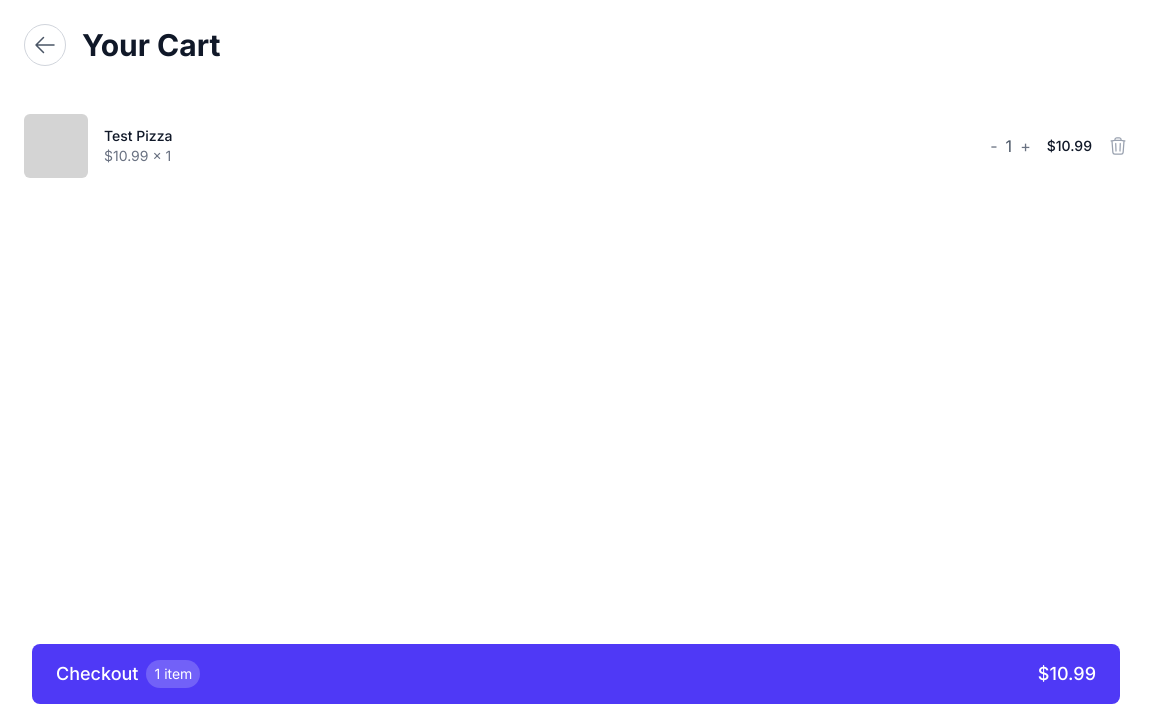
Test case: CartPage Component (Unit) › removes item when quantity becomes 0
Click the button named "decrease quantity" at (994, 146), box [990,134,998,158]
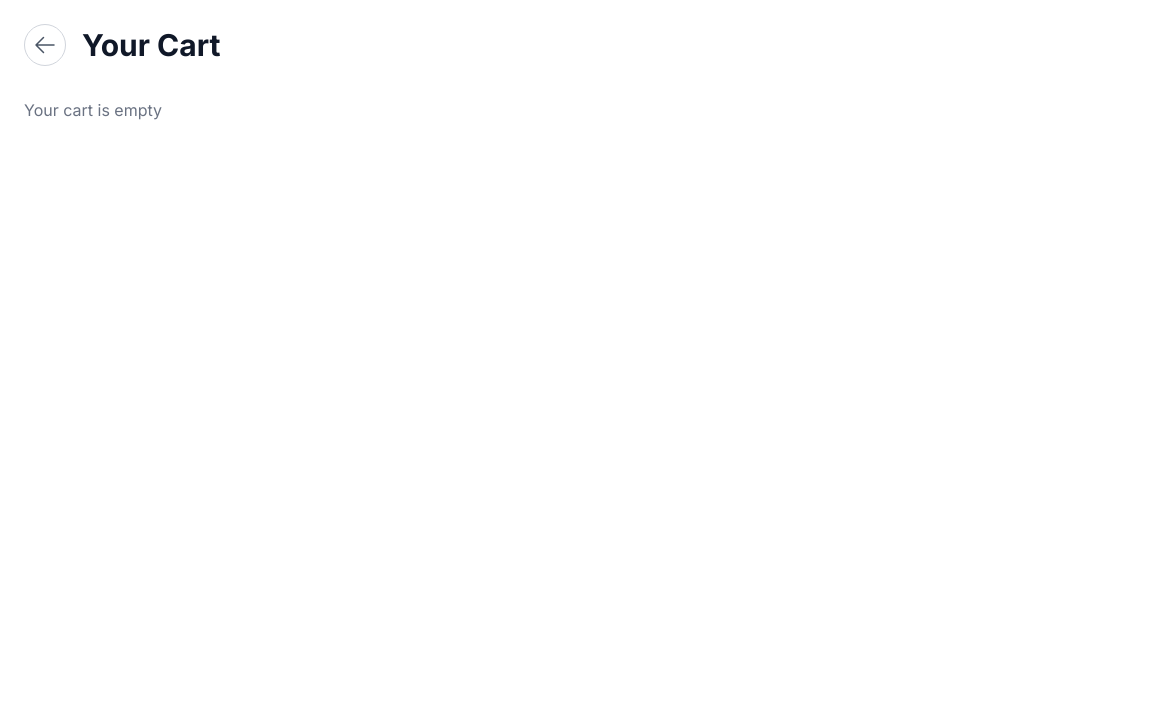
Expected: the heading "Test Pizza" is gone
Expected: the text "Your cart is empty" is shown, [24,100,162,120]
